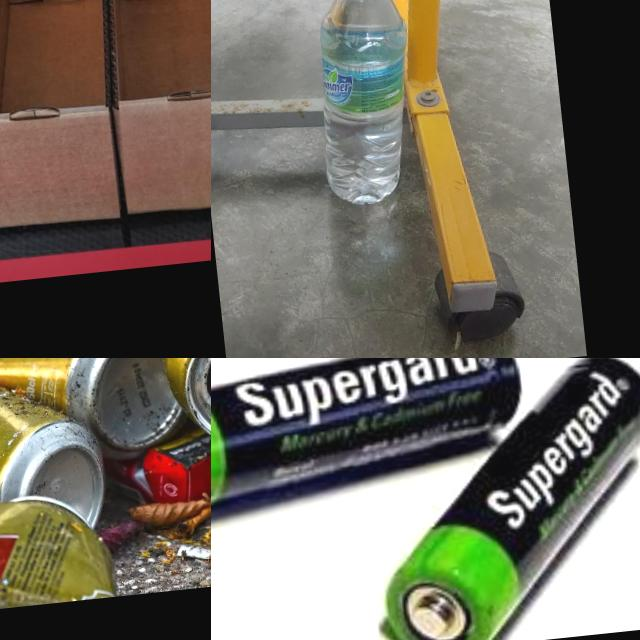bateria: (357, 358, 640, 640), (211, 358, 533, 521)
garrafa plástica: (303, 0, 424, 211)
lata: (0, 358, 119, 573), (0, 358, 198, 480), (0, 487, 120, 617)
papelão: (0, 0, 137, 231), (87, 0, 211, 219)
